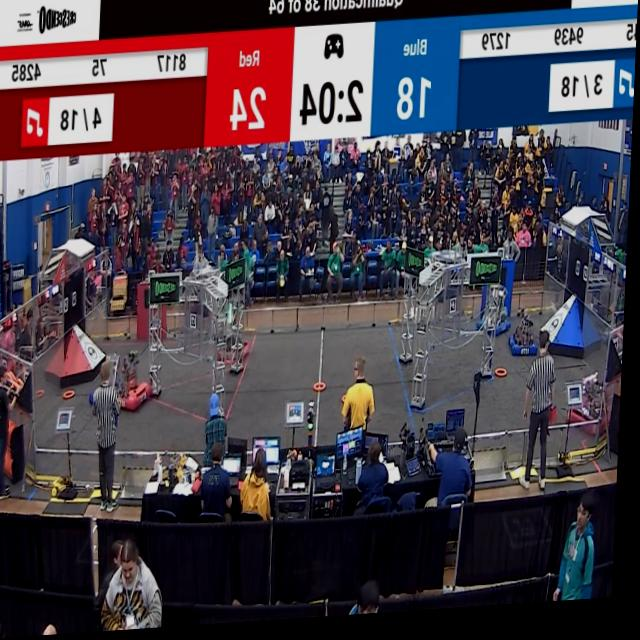Robot: (568, 372, 614, 448), (214, 304, 259, 376), (118, 345, 155, 418), (481, 286, 516, 348), (510, 311, 543, 369)
